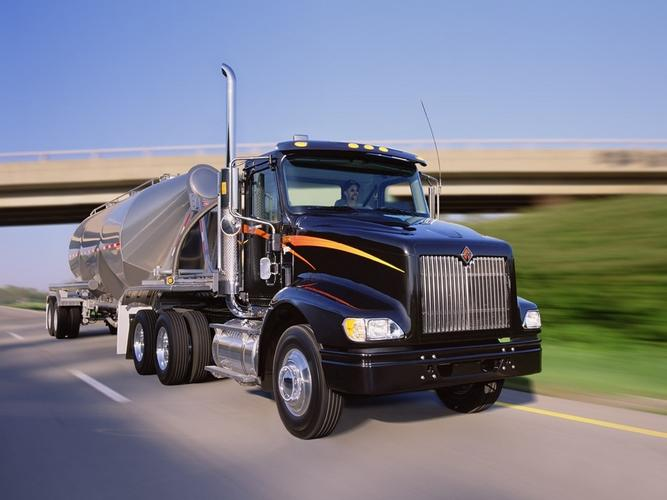卡车: (44, 156, 552, 436)
